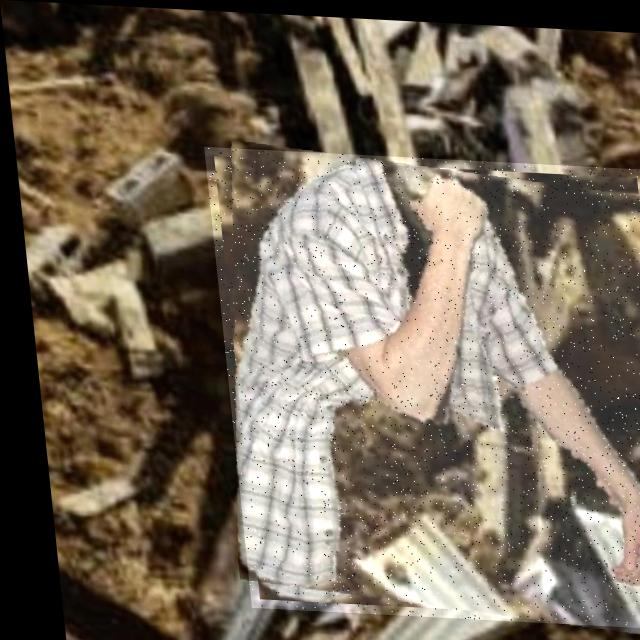Person in Rubble: (201, 145, 640, 624)
